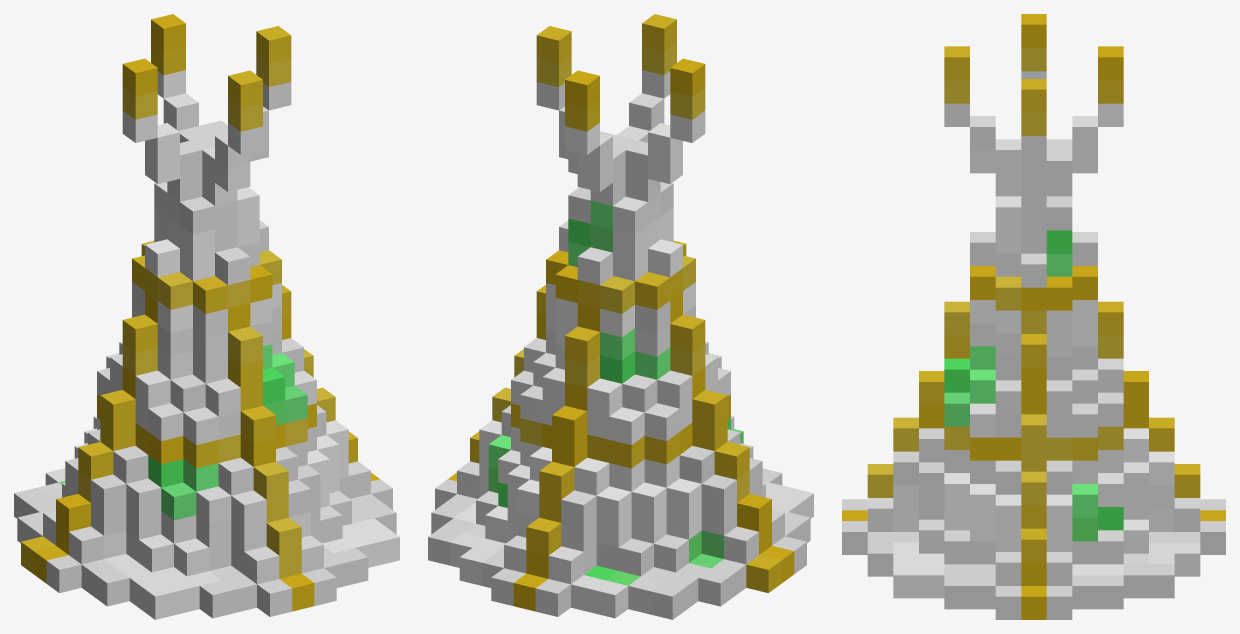
Rendered from Plains Mage Tower.obj.
The picture shows the model from 3 angles, left to right: view 1: azimuth 30°, elevation 25°; view 2: azimuth 150°, elevation 25°; view 3: azimuth 270°, elevation 25°; orthographic projection.
Size of the model in its own units: 1.5 by 2.1 by 1.5.
1 material, 1 textured.
